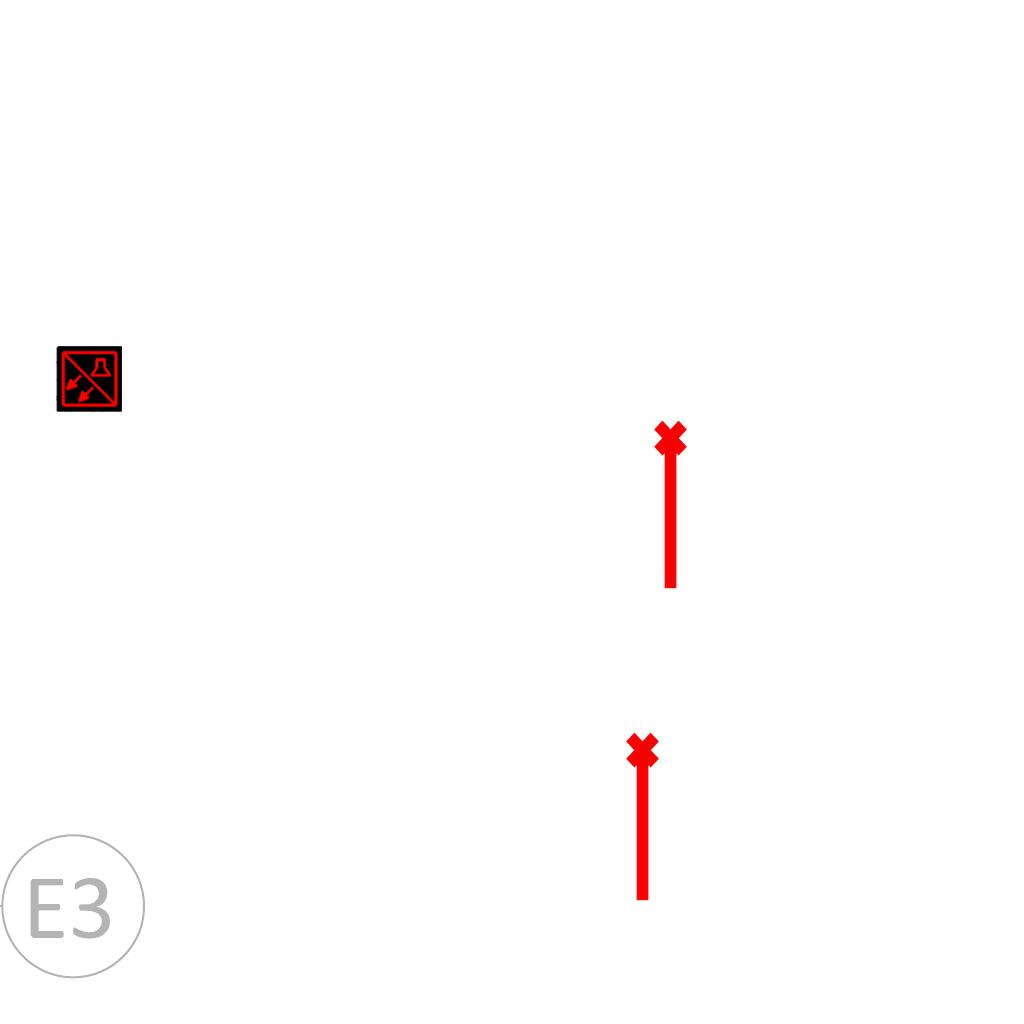ASR_Ansaugoeffnung: (622, 730, 668, 906), (650, 418, 696, 594)
OKW_Multisensormelder_(Kombination_optischer_Rauch-Kahlenmonoxid_Waerme-Melder): (56, 346, 122, 412)
